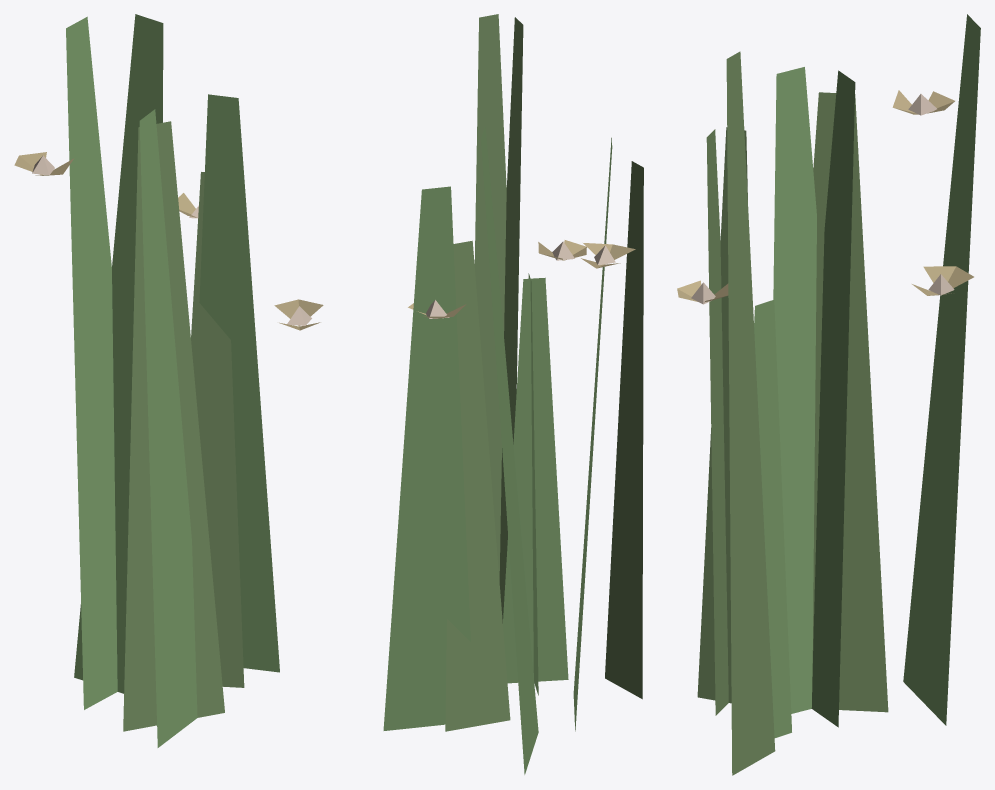
File: cao.luwei__spring.glb
3 views of the same model, side by side, from view 1: azimuth 30°, elevation 25°; view 2: azimuth 150°, elevation 25°; view 3: azimuth 270°, elevation 25° (orthographic). The views are drawn at different scales.
Visible parts, largest first — view 1: cao.luwei__spring; view 2: cao.luwei__spring; view 3: cao.luwei__spring.
Part boxes in pixels (box(x1,y1,x2,y2)): cao.luwei__spring: box(14, 14, 323, 747); cao.luwei__spring: box(383, 14, 643, 774); cao.luwei__spring: box(677, 14, 980, 775).
Size of the model in its own units: 0.8967 by 2.41 by 0.9459.
